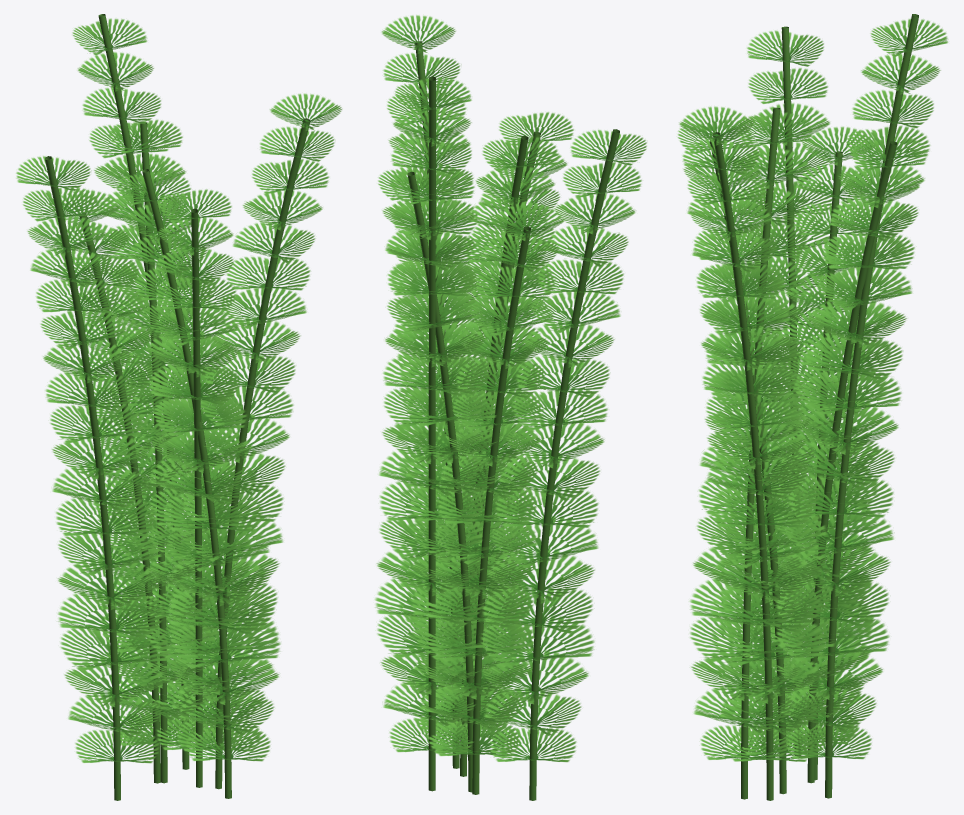
File: prop_cabomba.glb
3 renders of one model, left to right at view 1: azimuth 30°, elevation 25°; view 2: azimuth 150°, elevation 25°; view 3: azimuth 270°, elevation 25°, orthographic. The views are drawn at different scales.
Parts seen in each view (by area): view 1: plant_leaf, plant_stem; view 2: plant_leaf, plant_stem; view 3: plant_leaf, plant_stem.
Boxes of the visible parts, x1,y1,x2,y2 form: plant_leaf: (16, 18, 342, 763); plant_stem: (45, 14, 310, 800); plant_leaf: (374, 15, 646, 762); plant_stem: (407, 41, 619, 800); plant_leaf: (677, 18, 948, 761); plant_stem: (709, 14, 918, 800).
Bounding box in the file's own units: 0.3806 × 0.9304 × 0.3025.
Materials: 2 (1 with a texture image).
